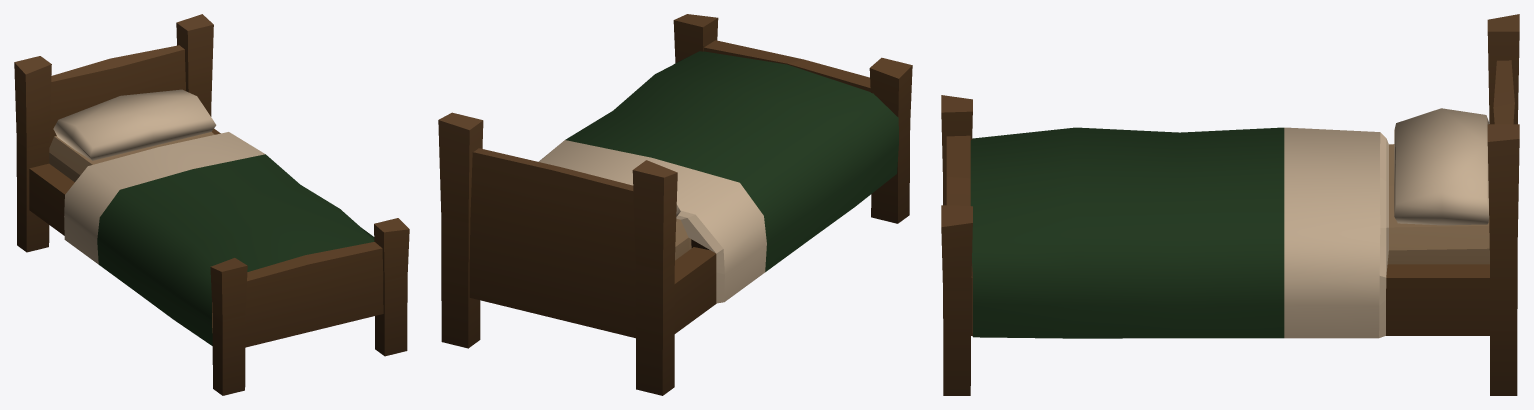
File: BedSingleWithBedding.fbx
The picture shows the model from 3 angles, left to right: view 1: azimuth 30°, elevation 25°; view 2: azimuth 150°, elevation 25°; view 3: azimuth 270°, elevation 25°; orthographic projection. The views are drawn at different scales.
Visible parts, largest first — view 1: BedSingleWithBedding; view 2: BedSingleWithBedding; view 3: BedSingleWithBedding.
Part boxes in pixels (box(x1,y1,x2,y2)): BedSingleWithBedding: box(14, 14, 409, 395); BedSingleWithBedding: box(438, 14, 912, 395); BedSingleWithBedding: box(941, 14, 1519, 395).
Bounding box in the file's own units: 95.76 × 88.73 × 180.
